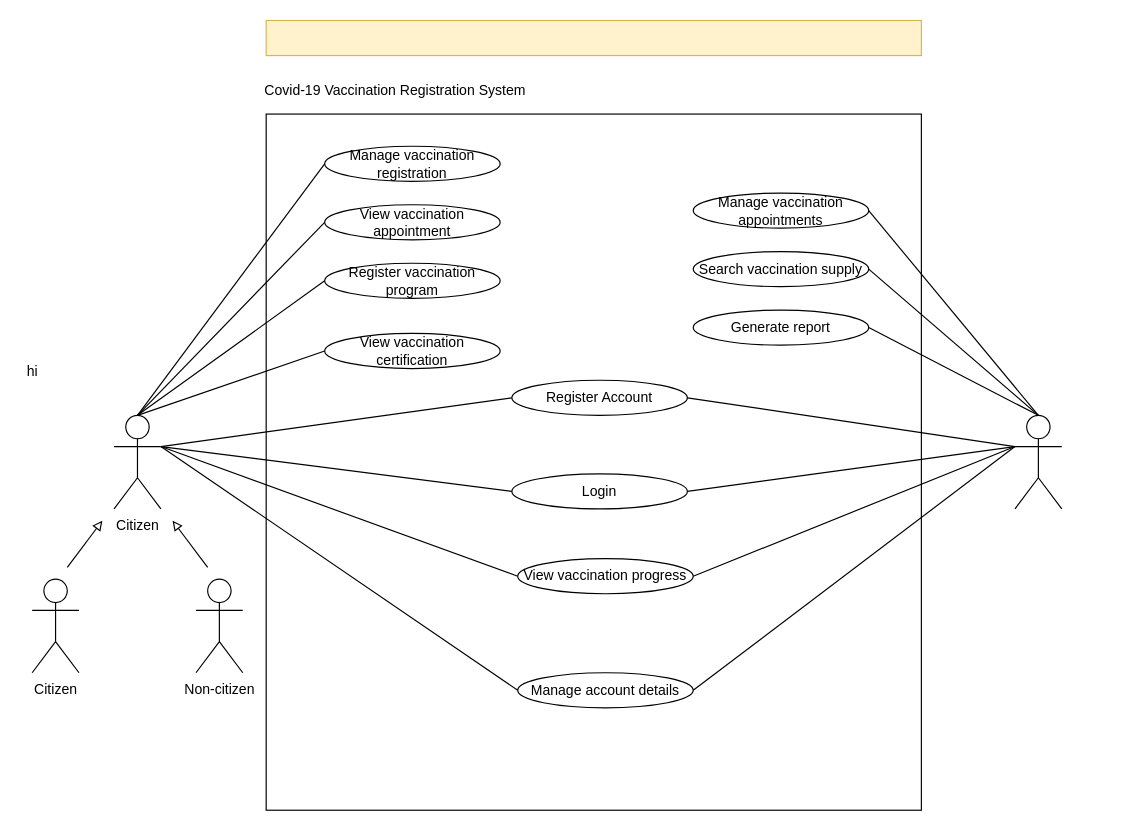
Some shapes in this 1128 by 831 pixel diagram are drawn without their labels. The shapes that lost their labels are listed below. From the top down, each one's centre as x and y in pixels, then its label:
At (x=593, y=37): "Overview of the Use Case Diagram".
At (x=1038, y=461): "Personnel of committe".
